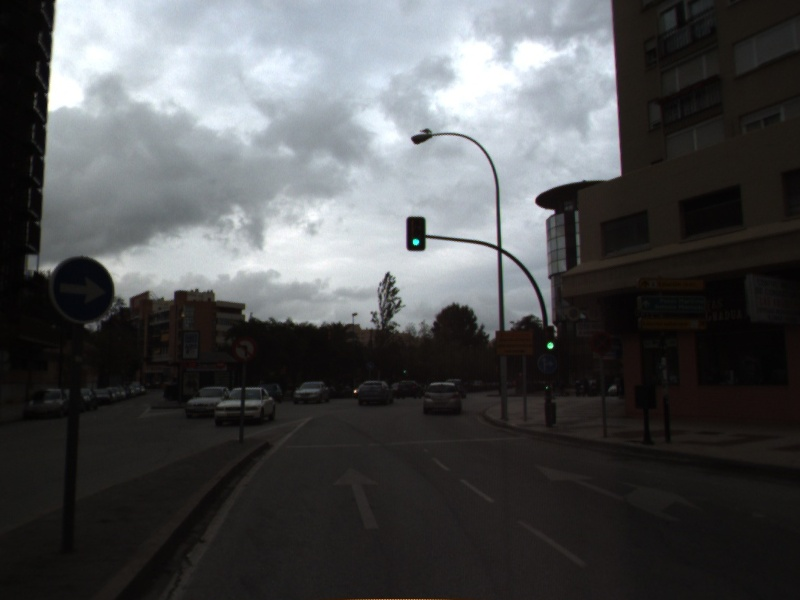STRAIGHT: (330, 464, 383, 531)
STRAIGHT_RIGHT: (535, 463, 707, 524)
